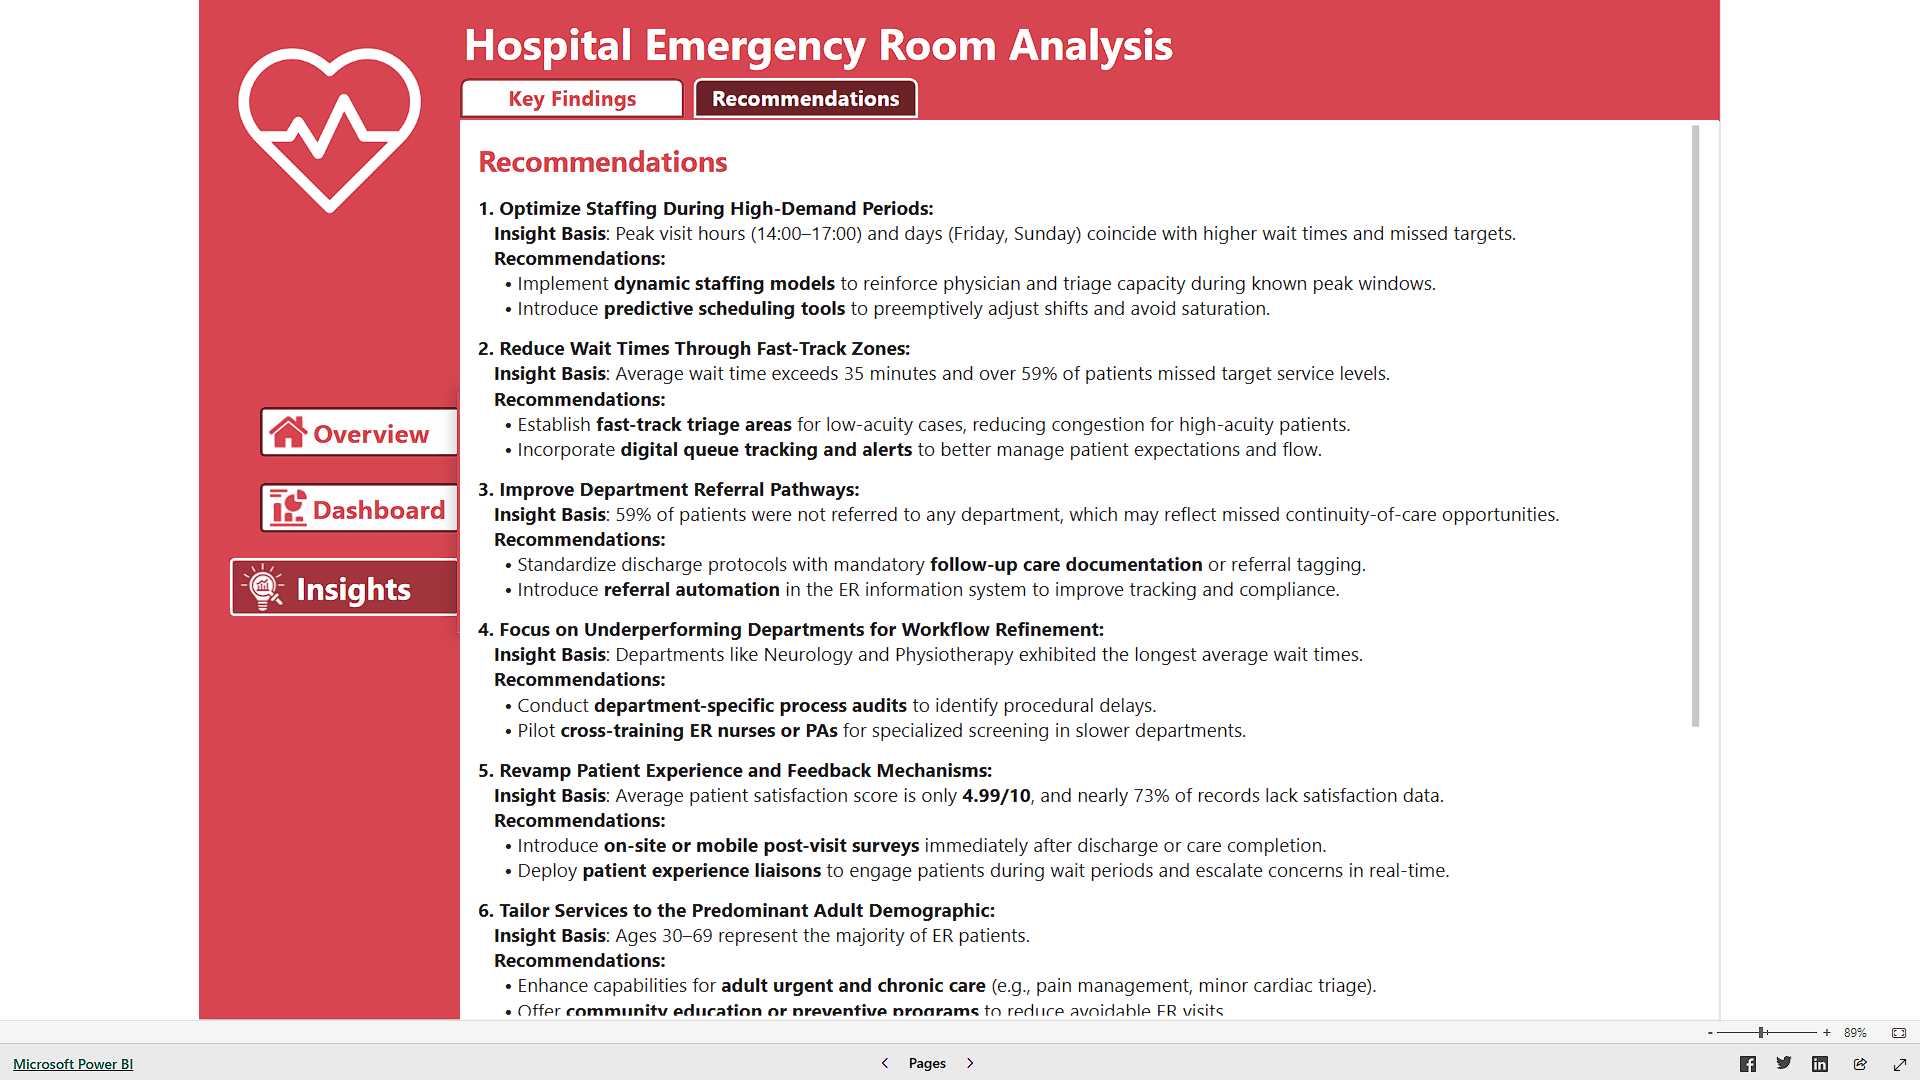

The dashboard page shown, as its layout file describes it:
{"tool":"powerbi","page":{"name":"Recommendations","canvas":[1700,1140],"ordinal":8},"visuals":[{"type":"shape","box":[0,0,292.2,1139.5],"z":0},{"type":"textbox","title":"Hospital Emergency Room Analysis","box":[290.8,14.7,938.4,91],"z":0,"group":"g1"},{"type":"actionButton","box":[68.2,316.7,224,55.7],"z":0,"group":"g2"},{"type":"shape","box":[292,0,1408,135],"z":1000},{"type":"actionButton","box":[68.2,401.6,224,55.7],"z":1000,"group":"g2"},{"type":"image","box":[0,38.6,291.4,214.3],"z":2000},{"type":"actionButton","box":[35,485.2,257,65],"z":2000,"group":"g2"},{"type":"shape","box":[291.4,134.3,1407.1,1005.7],"z":3000},{"type":"shape","box":[288,300,4.2,268.5],"z":3000,"group":"g2"},{"type":"textbox","box":[292.2,135,1405.2,1004.5],"z":4000},{"type":"pageNavigator","box":[292.2,87.7,513.4,45.9],"z":5000},{"type":"group","id":"g1","title":"Group 1","box":[290.8,14.7,938.4,91],"z":6000},{"type":"group","id":"g2","title":"Group 2","box":[35,300,257.2,268.5],"z":7000}]}

Visuals, with their boxes on the page's 1700x1140 design canvas (x1, y1, x2, y2). These are canvas units, not pixel positions in the 1920x1080 screenshot, which may show the page scaled, cropped or inside an application window:
shape: 0/0/292/1140
"Hospital Emergency Room Analysis" textbox: 291/15/1229/106
actionButton: 68/317/292/372
shape: 292/0/1700/135
actionButton: 68/402/292/457
image: 0/39/291/253
actionButton: 35/485/292/550
shape: 291/134/1698/1140
shape: 288/300/292/568
textbox: 292/135/1697/1140
pageNavigator: 292/88/806/134
"Group 1" group: 291/15/1229/106
"Group 2" group: 35/300/292/568
